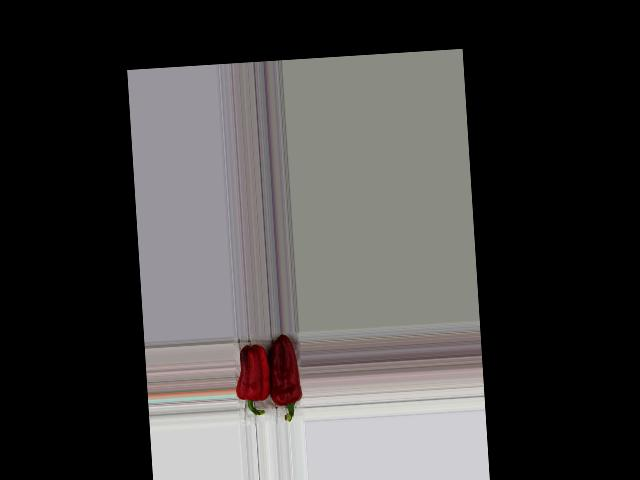bell_pepper: (265, 333, 303, 425)
